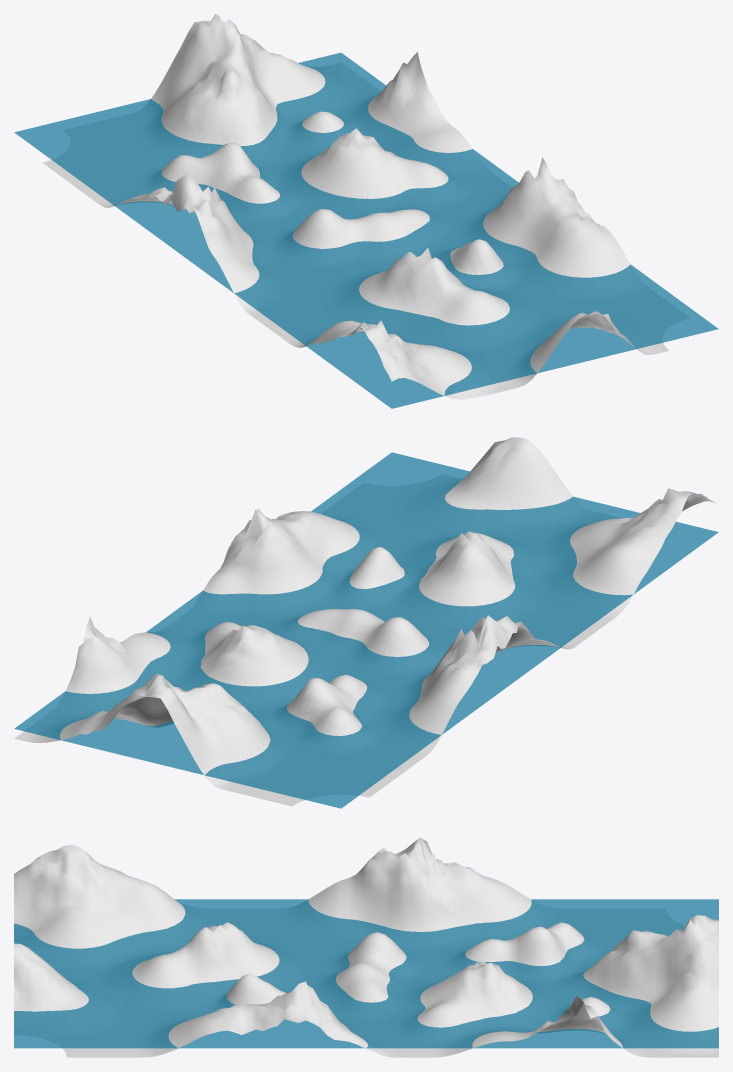
File: terrainIslandTest.fbx
3 views of the same model, one above another, from view 1: azimuth 30°, elevation 25°; view 2: azimuth 150°, elevation 25°; view 3: azimuth 270°, elevation 25° (orthographic). The views are drawn at different scales.
Parts seen in each view (by area): view 1: Grid, Plane; view 2: Grid, Plane; view 3: Grid, Plane.
Part boxes in pixels (x1,y1,x2,y2): Grid: (42,14,689,399); Plane: (14,52,718,408); Grid: (14,437,716,806); Plane: (14,452,718,808); Grid: (14,837,718,1057); Plane: (14,899,718,1048).
Bounding box in the file's own units: 1000 × 255 × 2000.
